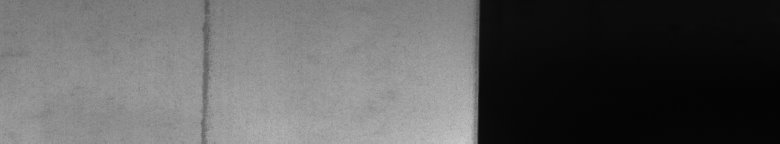hd: (196, 4, 216, 136)
